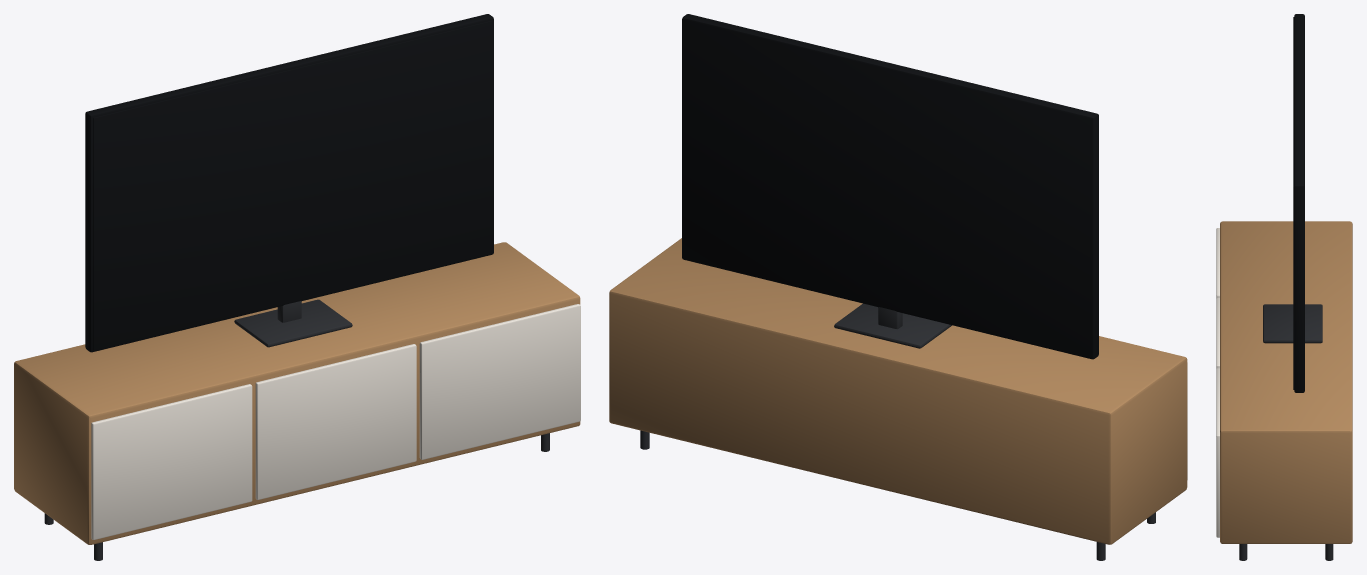
The picture shows the model from 3 angles, left to right: view 1: azimuth 30°, elevation 25°; view 2: azimuth 150°, elevation 25°; view 3: azimuth 270°, elevation 25°; orthographic projection. The views are drawn at different scales.
Visible parts, largest first — view 1: screen_face, box, box.001, box.002, box.003, box.006, box.004; view 2: box.006, box, box.004; view 3: box, box.006, box.004, screen_face, box.003, box.002, box.001.
Part boxes in pixels (x1,y1,x2,y2): screen_face: (93,20,492,350); box: (14,242,580,544); box.001: (91,384,252,539); box.002: (255,344,416,499); box.003: (419,304,580,459); box.006: (85,14,493,352); box.004: (234,299,352,347); box.006: (682,14,1098,359); box: (609,238,1187,544); box.004: (834,303,951,348); box: (1220,221,1352,543); box.006: (1294,14,1304,392); box.004: (1263,304,1322,343); screen_face: (1293,17,1294,389); box.003: (1216,368,1219,537); box.002: (1216,298,1219,368); box.001: (1216,228,1219,298).
Bounding box in the file's own units: 150 × 121 × 41.1.
